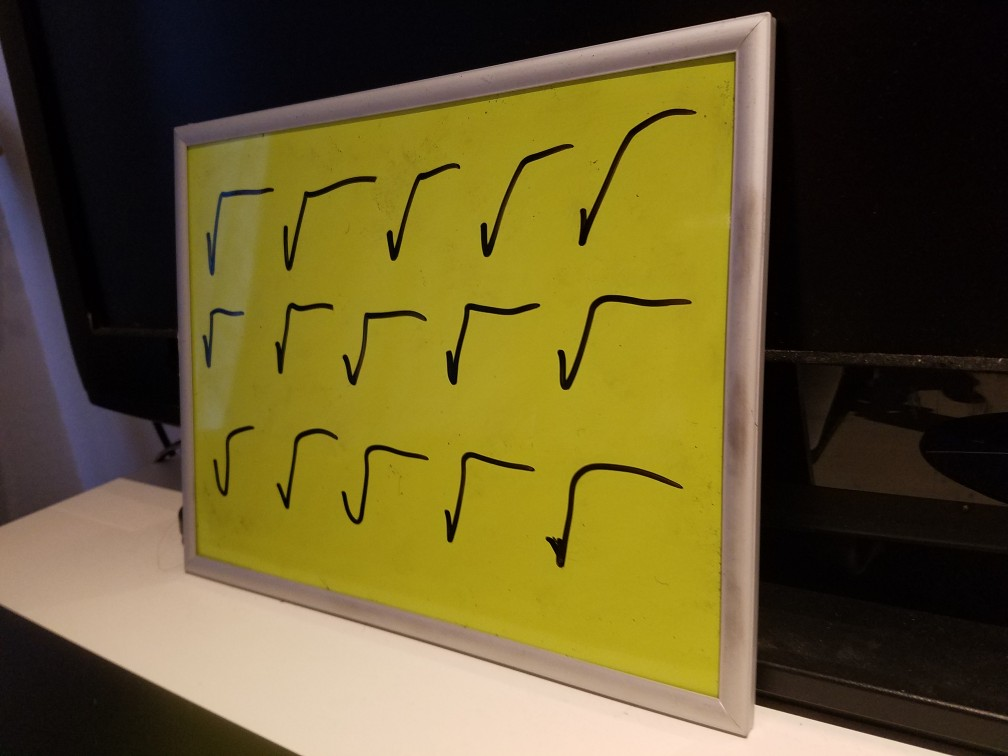sqrt: (546, 447, 694, 621), (575, 101, 700, 262), (551, 287, 703, 407), (439, 434, 540, 580), (435, 282, 546, 406), (475, 145, 565, 276), (341, 422, 432, 551), (335, 287, 429, 404), (274, 168, 373, 274), (377, 148, 465, 265), (266, 411, 341, 536), (198, 173, 270, 277), (266, 287, 334, 382), (205, 413, 260, 501), (194, 300, 245, 374)
